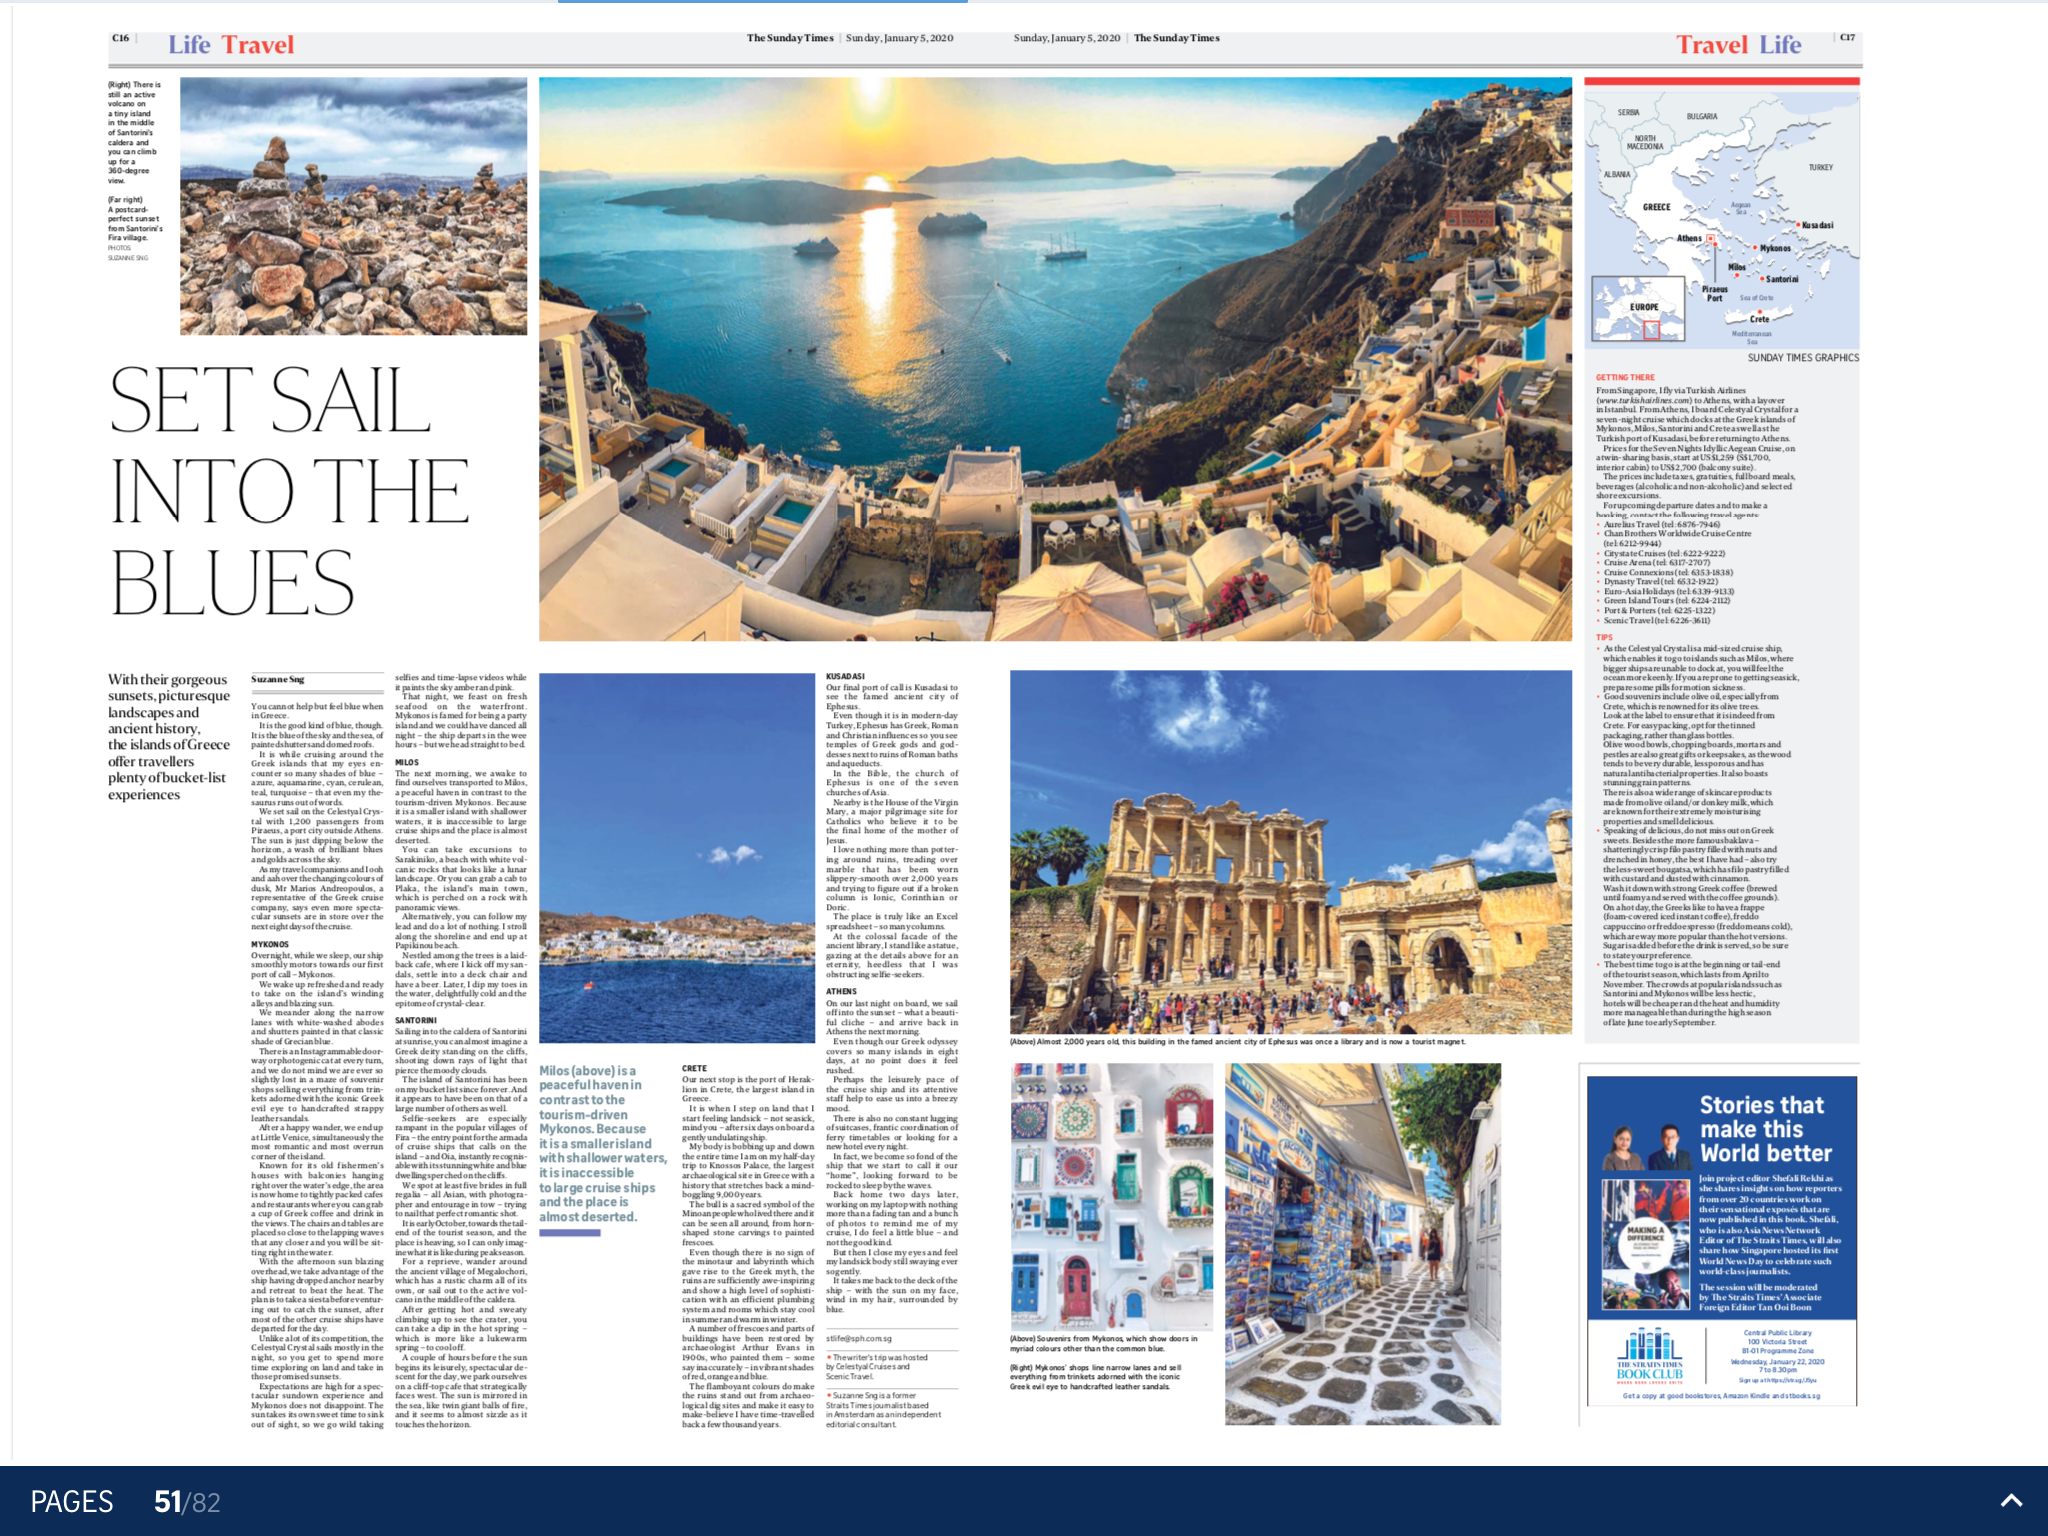Byline: (248, 671, 311, 686)
Headline: (100, 353, 482, 629)
Illustration: (1584, 74, 1859, 353), (535, 1058, 672, 1247), (1005, 1328, 1206, 1396), (102, 68, 168, 265), (1006, 1034, 1472, 1050), (1743, 350, 1863, 366)
Image: (534, 79, 1571, 642), (1009, 670, 1571, 1034), (539, 671, 819, 1046), (1226, 1063, 1505, 1425), (182, 79, 531, 336), (1011, 1058, 1211, 1334)
Text: (1592, 365, 1809, 1037), (390, 666, 534, 1434), (247, 694, 390, 1442), (816, 665, 968, 1325), (672, 1054, 818, 1439), (102, 665, 232, 808)
